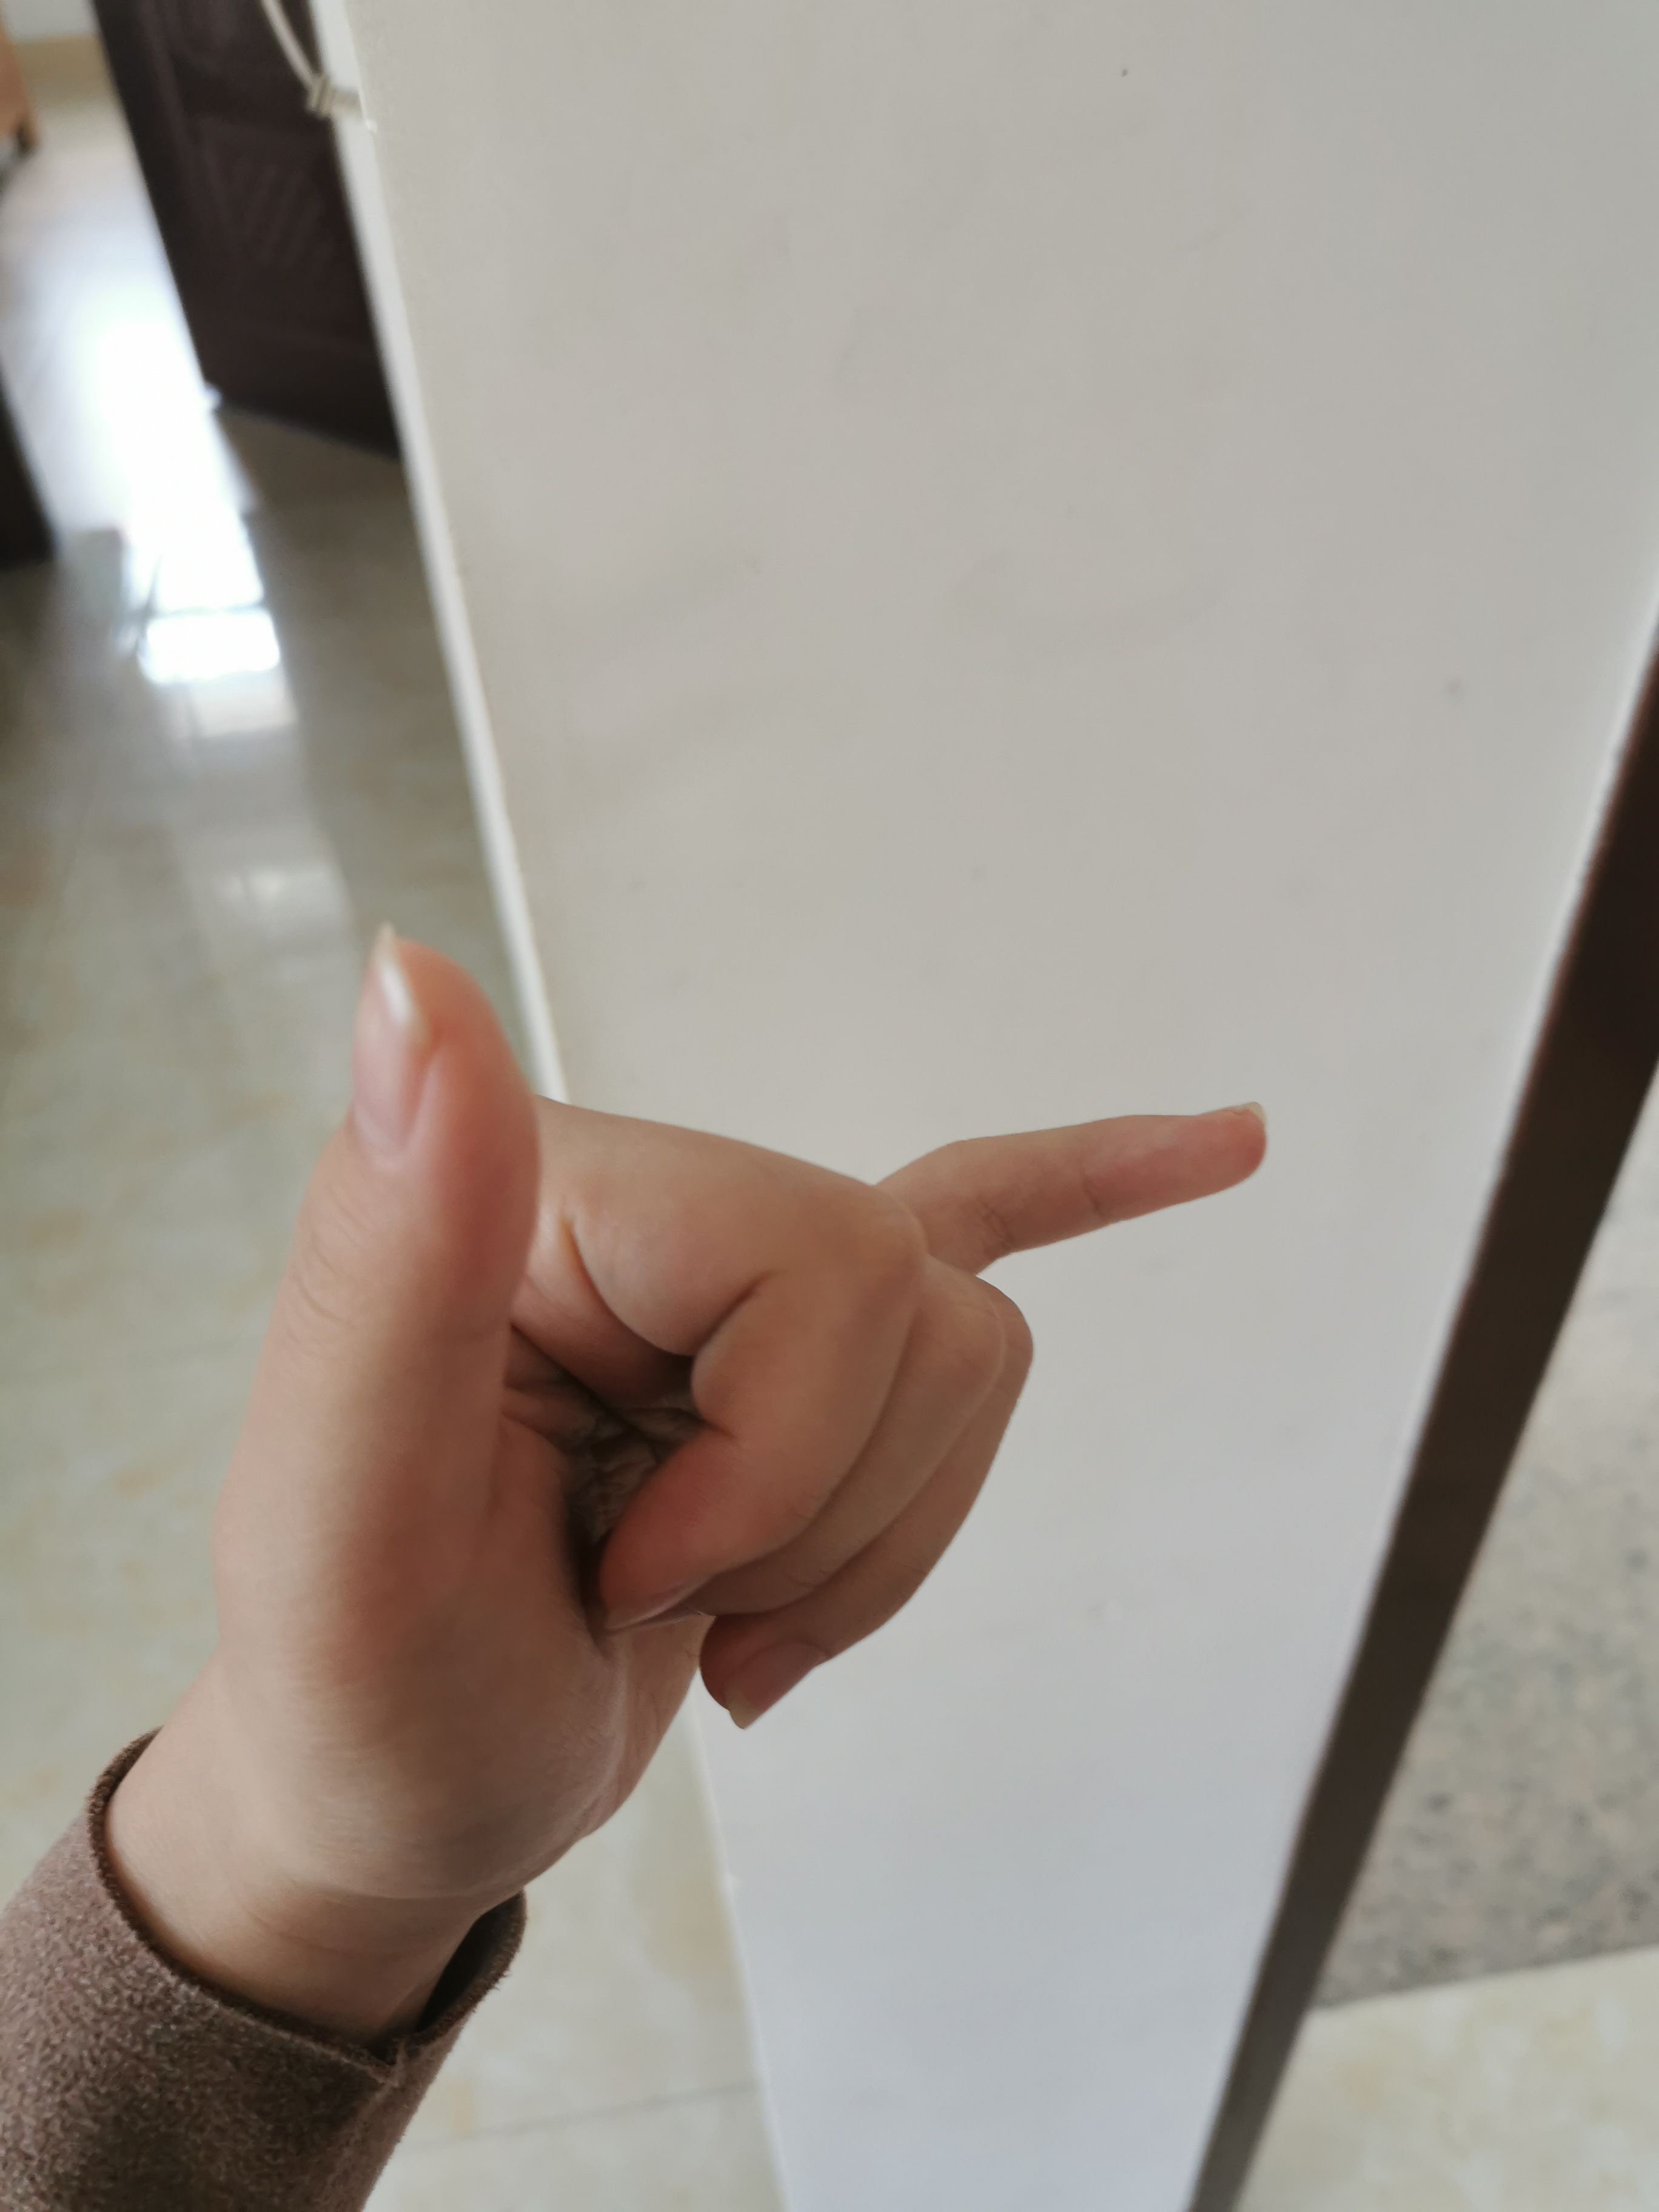clockwise: (162, 914, 1291, 1907)
